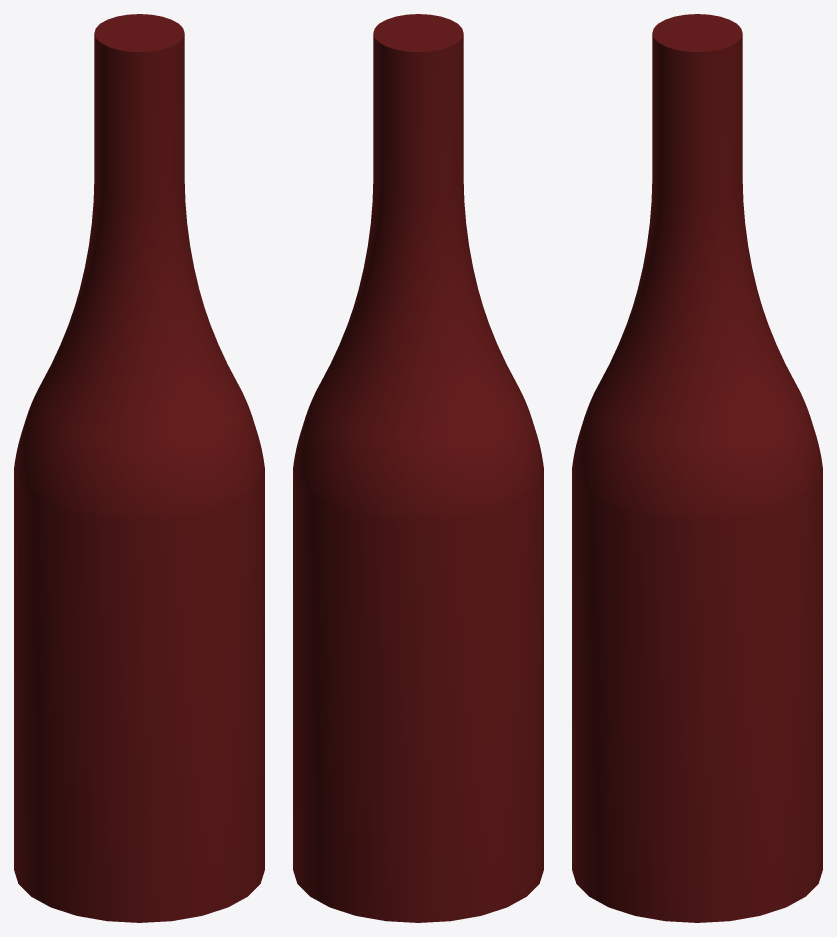
3 renders of one model, left to right at view 1: azimuth 30°, elevation 25°; view 2: azimuth 150°, elevation 25°; view 3: azimuth 270°, elevation 25°, orthographic.
Visible parts, largest first — view 1: mesh1_mesh1-geometry; view 2: mesh1_mesh1-geometry; view 3: mesh1_mesh1-geometry.
Boxes of the visible parts, <box> form: mesh1_mesh1-geometry: <box>14,14,264,922</box>; mesh1_mesh1-geometry: <box>293,14,543,922</box>; mesh1_mesh1-geometry: <box>572,14,822,922</box>.
Size of the model in its own units: 0.2536 by 0.9334 by 0.2537.
